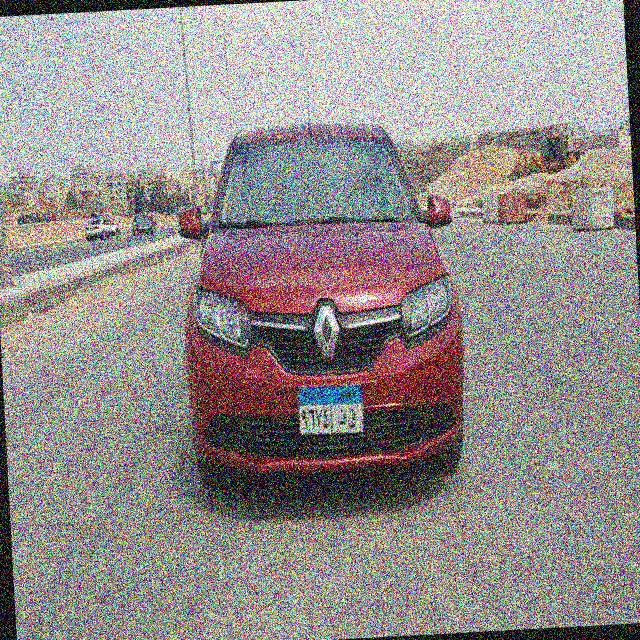License Plate: (295, 381, 366, 439)
